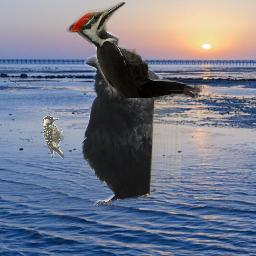Crow: (78, 44, 181, 206)
Woodpecker: (62, 2, 202, 98), (43, 116, 65, 159)
